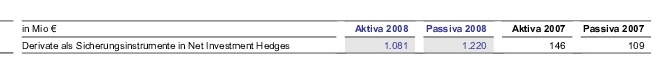table: (0, 0, 669, 72)
